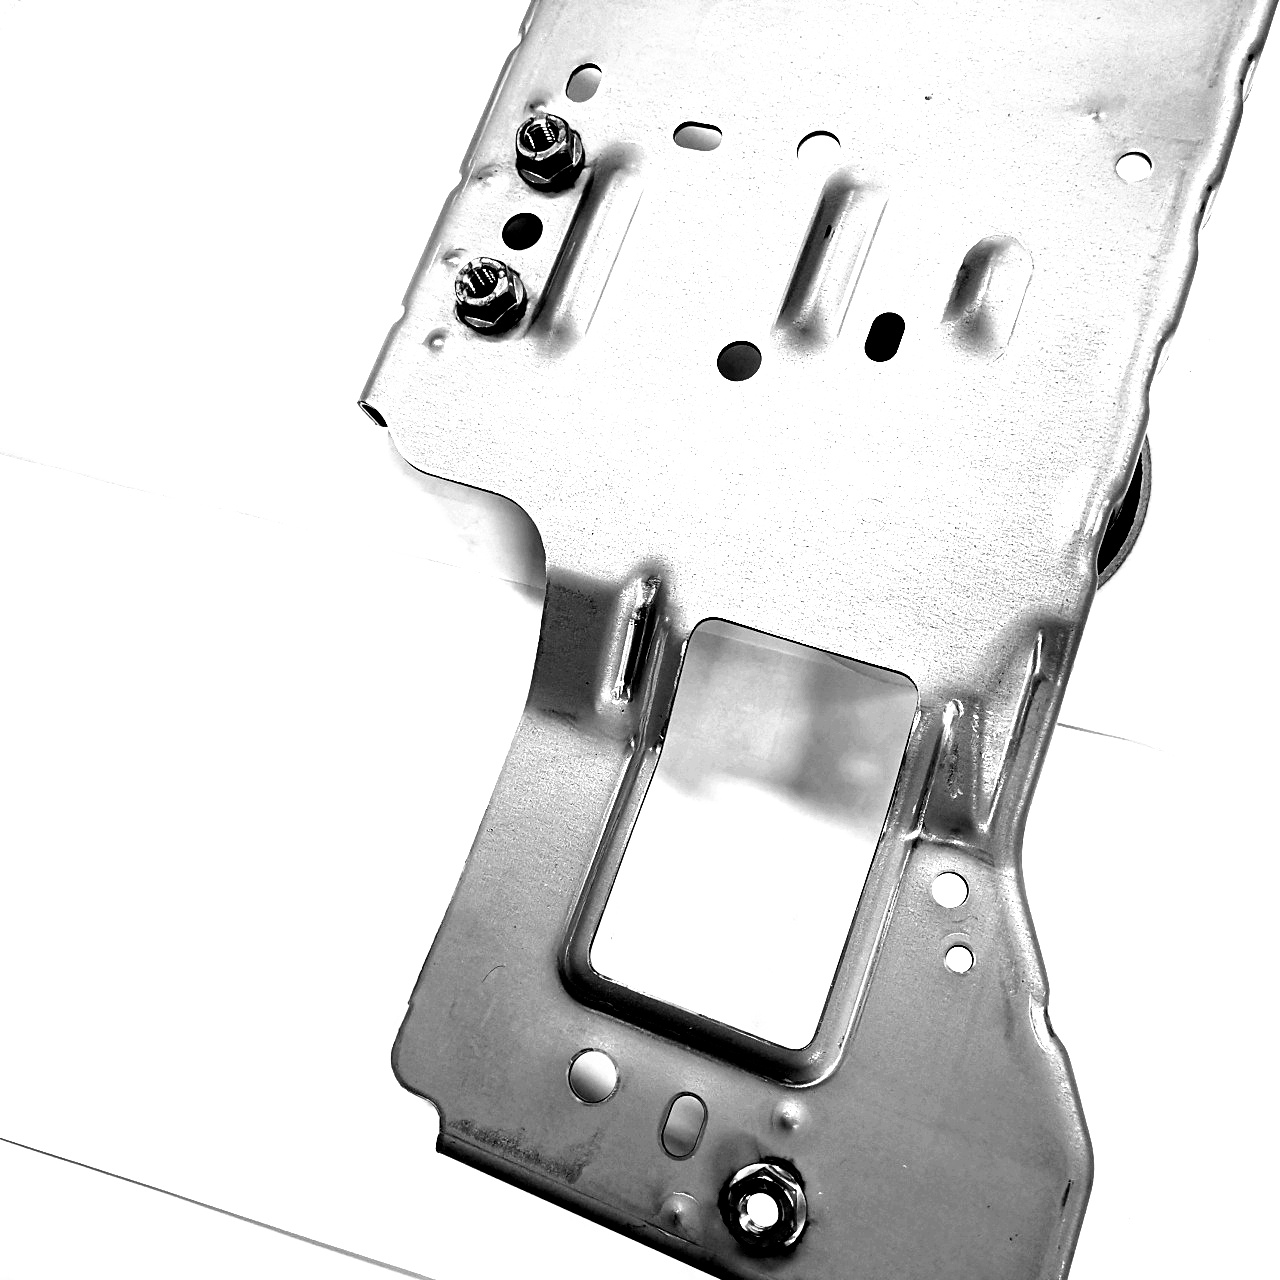dog: (722, 1152, 816, 1254), (450, 254, 535, 342), (512, 108, 590, 198)
